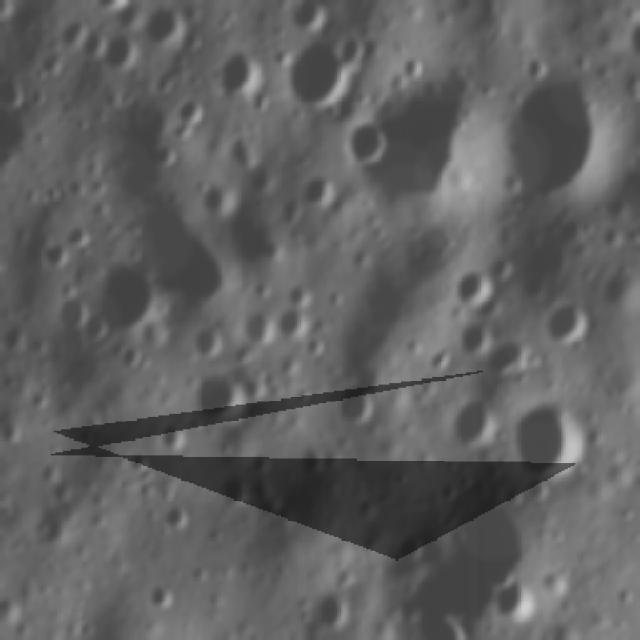crater: (345, 63, 480, 219), (492, 74, 614, 215), (133, 196, 242, 306), (270, 35, 362, 110), (83, 259, 162, 346), (510, 401, 592, 481), (189, 368, 249, 427), (333, 378, 387, 434), (488, 573, 541, 627), (451, 394, 502, 449), (543, 298, 595, 349), (216, 44, 264, 99), (344, 112, 387, 171), (308, 584, 358, 634), (484, 334, 531, 384), (449, 269, 497, 313), (50, 290, 96, 332), (102, 32, 143, 78), (198, 178, 239, 222), (453, 317, 499, 354), (388, 529, 430, 569), (141, 5, 182, 44), (332, 30, 374, 67), (238, 368, 276, 408), (158, 497, 196, 537), (78, 312, 117, 350), (154, 419, 192, 456), (218, 470, 256, 507), (301, 172, 337, 210), (38, 234, 74, 272), (115, 339, 154, 373), (540, 565, 577, 600), (59, 8, 93, 46), (122, 444, 160, 478), (148, 576, 180, 616), (224, 136, 265, 167), (393, 47, 429, 81), (277, 307, 311, 342), (34, 47, 68, 81), (282, 279, 316, 313), (499, 480, 532, 515), (76, 26, 107, 63), (170, 91, 207, 122), (295, 444, 327, 479), (490, 254, 519, 286), (526, 476, 554, 506), (299, 334, 333, 358), (22, 82, 52, 109), (83, 173, 114, 198), (152, 138, 175, 167), (65, 172, 87, 202), (88, 192, 114, 217), (248, 280, 274, 303)
